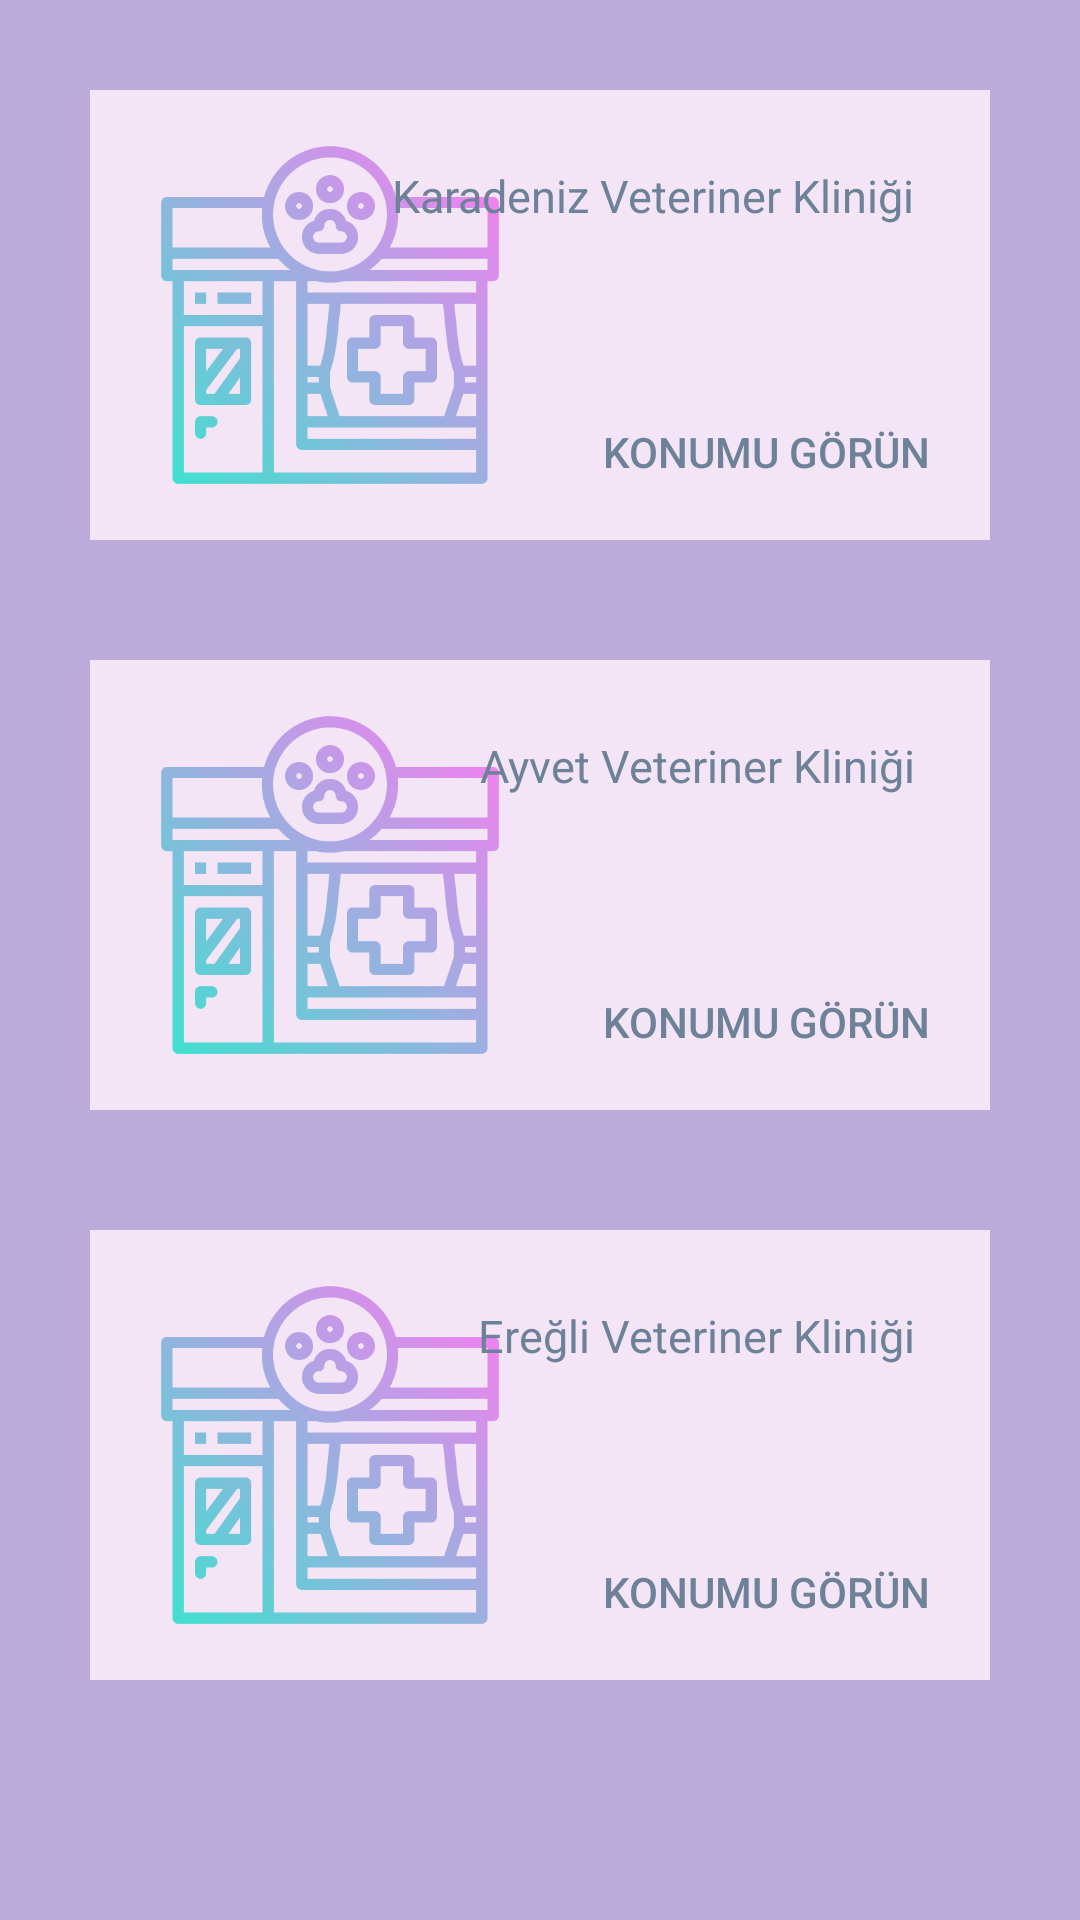

Icons on this 1080px x 1920px Android screen, each with its box as [x1, y1, x2, y2]:
hospital: [161, 146, 504, 484], [161, 716, 509, 1054], [161, 1286, 502, 1624]
